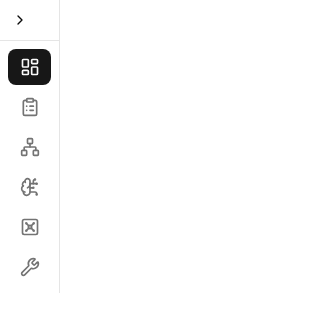
Test case: AppSidebar › collapse behavior › should expand when toggle button is clicked while collapsed
The image size is (320, 310).
Click the button named "Expand Sidebar".
click(20, 20)  # box 8,8 -> 32,32
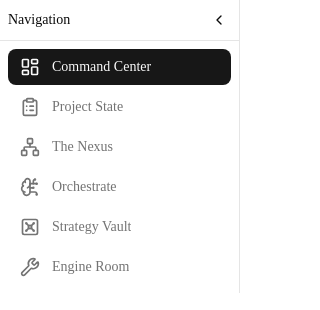
Expected: the text "Navigation" is shown, 8,10 -> 70,30
Expected: the text "Command Center" is shown, 52,57 -> 151,77
